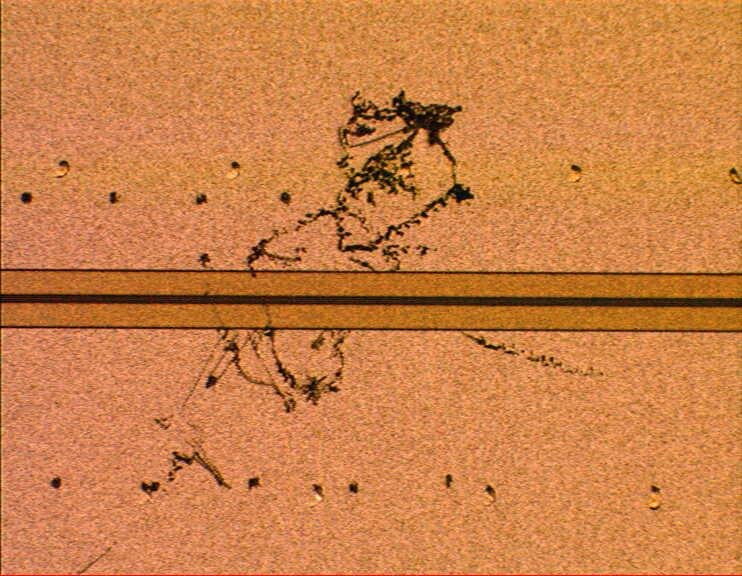SCRATCH: (72, 87, 617, 576)
